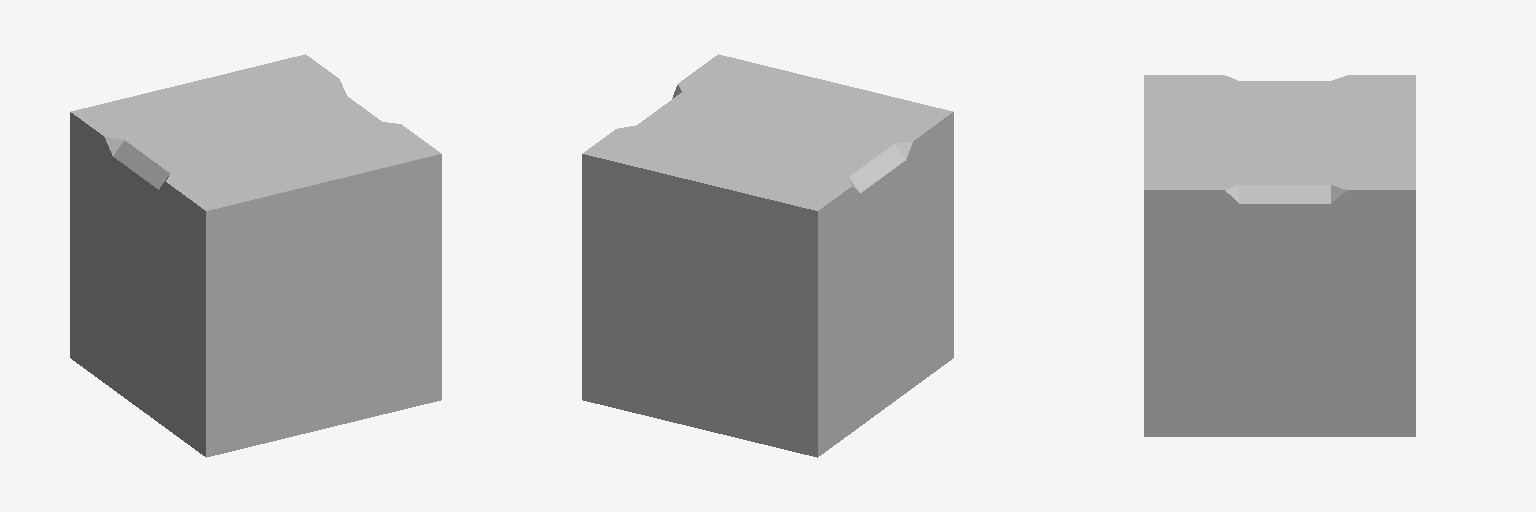
File: Box_normal.obj
3 renders of one model, left to right at view 1: azimuth 30°, elevation 25°; view 2: azimuth 150°, elevation 25°; view 3: azimuth 270°, elevation 25°, orthographic.
Parts seen in each view (by area): view 1: Cube.003_Cube.006_Cube.003_Cube.006; view 2: Cube.003_Cube.006_Cube.003_Cube.006; view 3: Cube.003_Cube.006_Cube.003_Cube.006.
Part boxes in pixels (left/top/right/bottom): Cube.003_Cube.006_Cube.003_Cube.006: left=70, top=54, right=441, bottom=457; Cube.003_Cube.006_Cube.003_Cube.006: left=582, top=54, right=953, bottom=457; Cube.003_Cube.006_Cube.003_Cube.006: left=1144, top=75, right=1415, bottom=436.
Bounding box in the file's own units: 1.99 × 1.99 × 1.99.